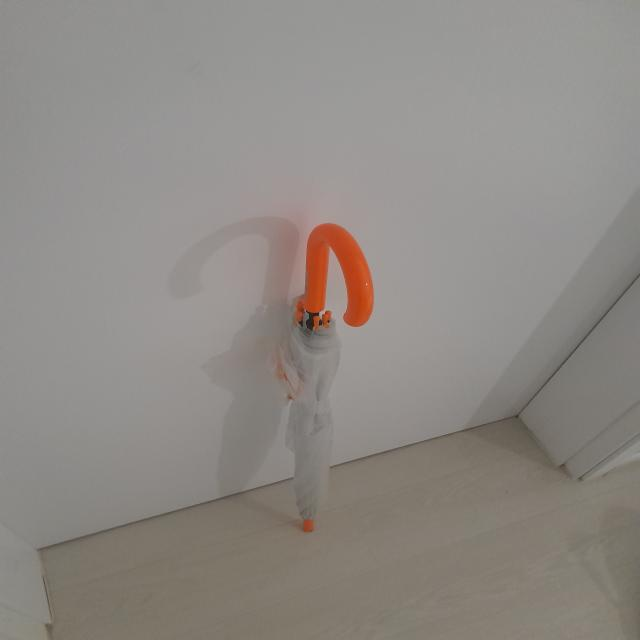umbrella: (280, 223, 376, 534)
